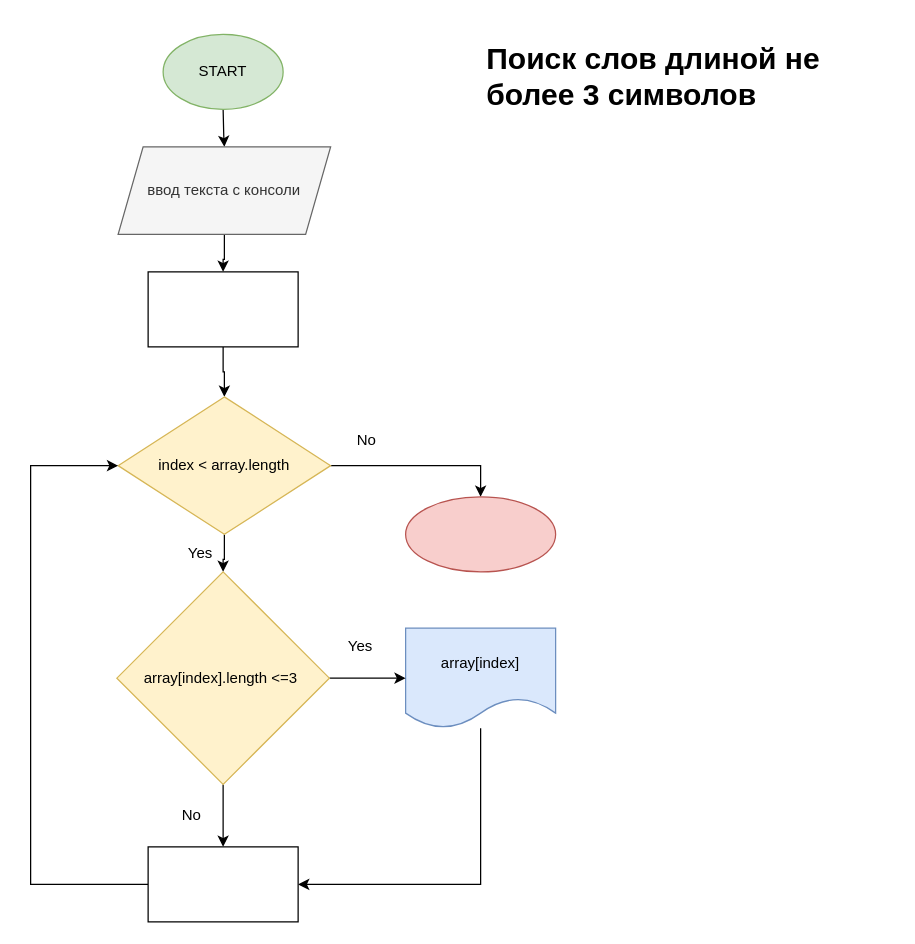
The diagram is 915 pixels wide and 944 high, and some of its shapes have lost their labels. Each missing label, with the box of its shape:
END: (404, 496, 556, 572)
index = index + 1: (147, 846, 298, 922)
преобразование в массив index = 0: (147, 271, 298, 347)
